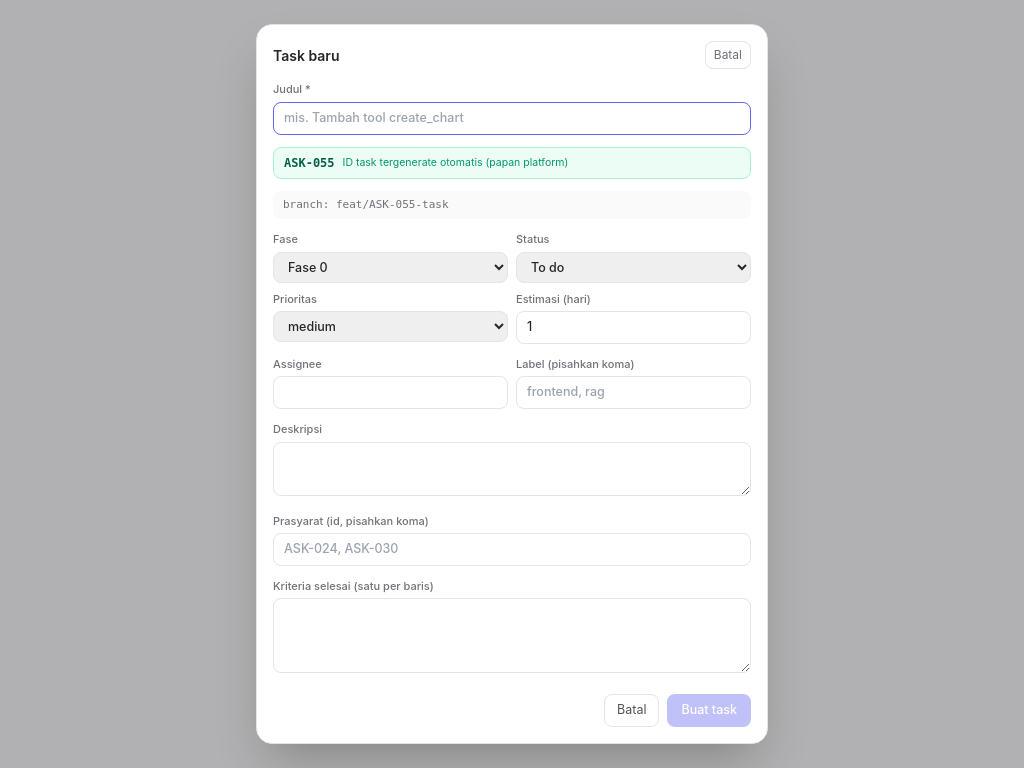
TaskForm — ID otomatis › menampilkan nomor tergenerate + pratinjau branch memakainya
Expected: the text "ASK-055" is shown, [284,154,335,172]
Expected: the element named "Task ID otomatis" shows "tergenerate otomatis", [343,156,482,169]
In the field named "Judul task baru": (512, 118) [273,102,751,135], type "Tambah grafik"
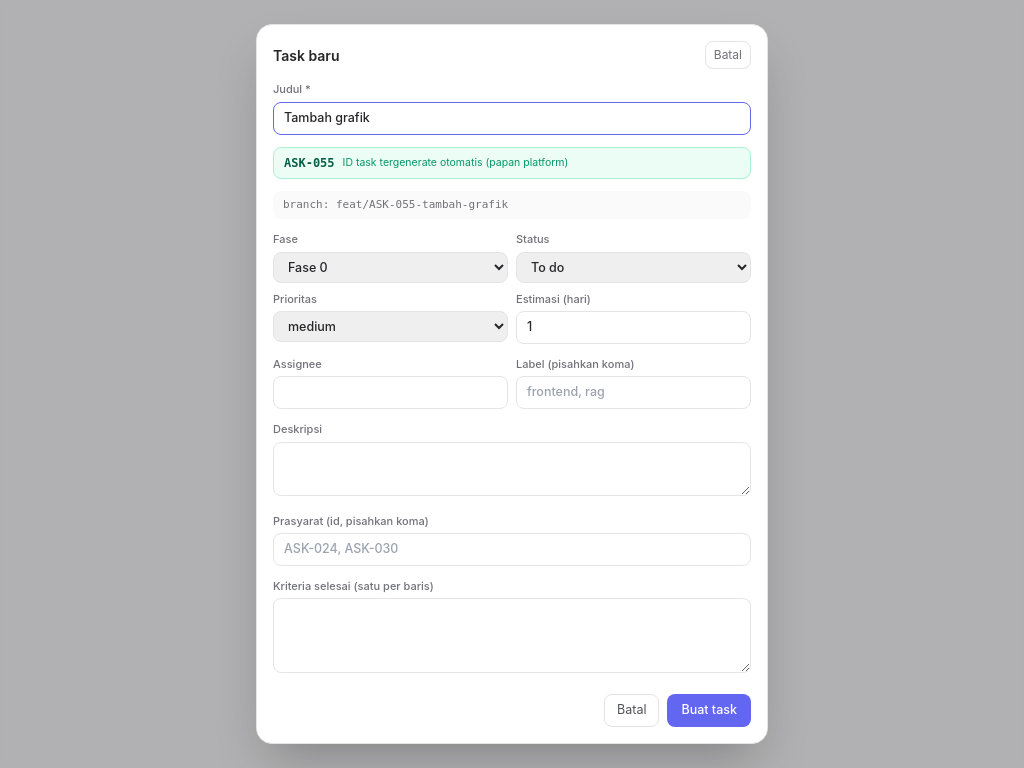
Now the text "branch: feat/ASK-055-tambah-grafik" is shown, box [273,191,751,219]
